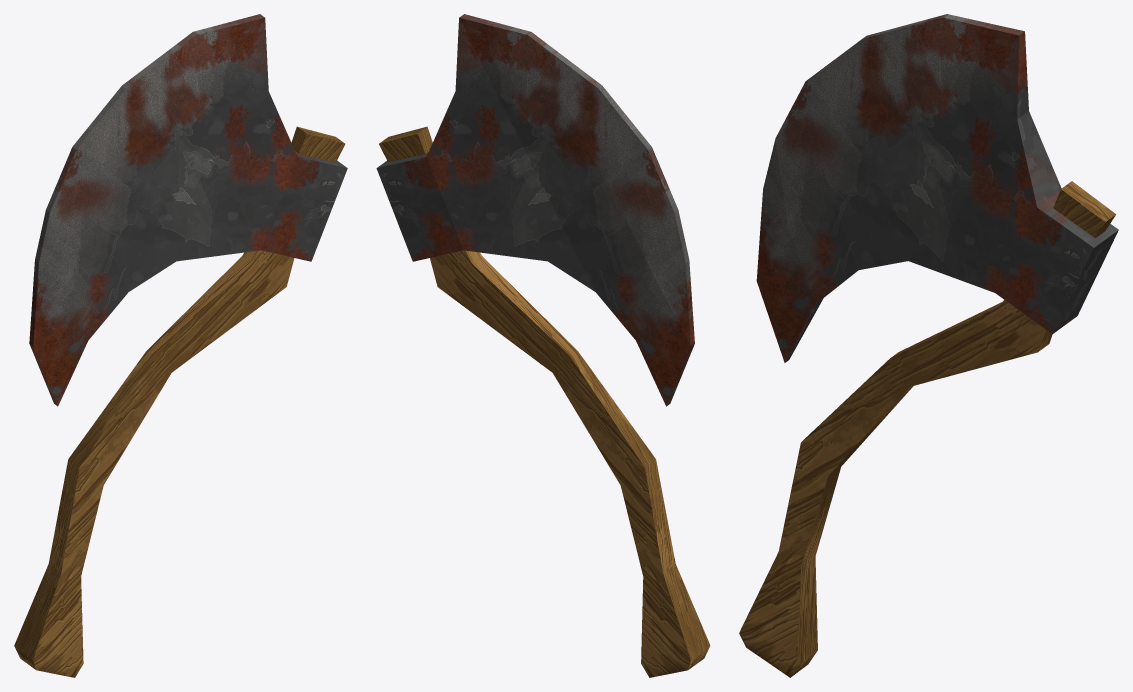
File: practice_axeTexture.glb
3 views of the same model, side by side, from view 1: azimuth 30°, elevation 25°; view 2: azimuth 150°, elevation 25°; view 3: azimuth 330°, elevation 25° (orthographic). The views are drawn at different scales.
Parts seen in each view (by area): view 1: pAxeHead, pHandle; view 2: pAxeHead, pHandle; view 3: pAxeHead, pHandle.
Part boxes in pixels (<box>): pAxeHead: <box>29,14,347,406</box>; pHandle: <box>14,126,345,677</box>; pAxeHead: <box>376,14,694,406</box>; pHandle: <box>379,126,710,677</box>; pAxeHead: <box>756,14,1118,362</box>; pHandle: <box>739,181,1115,677</box>.
Bounding box in the file's own units: 0.0223 × 0.041 × 0.00267.
Materials: 1 (1 with a texture image).
